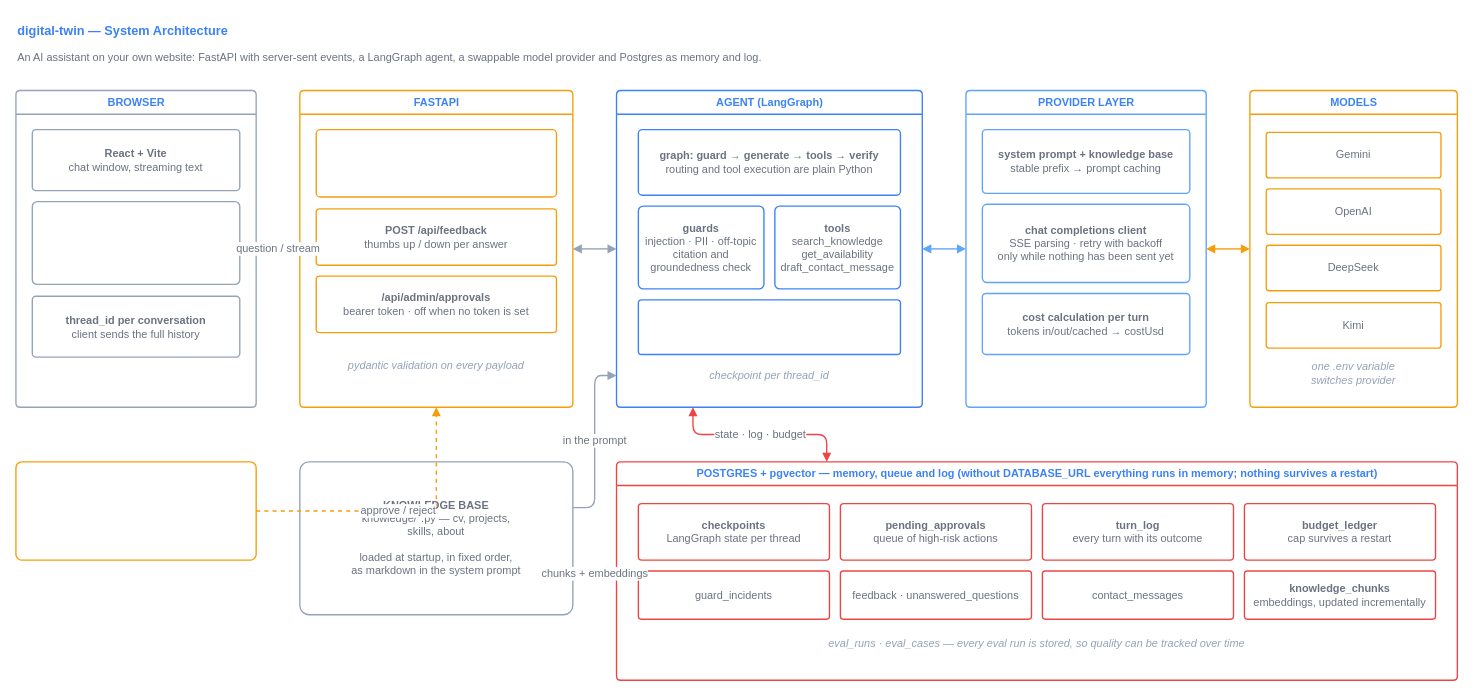
This 1474x696 diagram has some shape labels left out. The centre of each missing label's shape, as x and y in pixels:
BudgetTracker daily cap in dollars, fail closed: (x=769, y=327)
POST /api/chat StreamingResponse (SSE) rate limit 20 per 10 min per IP: (x=436, y=163)
RUUD (ADMIN) approves or rejects paused actions, with bearer token: (x=135, y=510)
SSE events text · citation · tool meta · trace · approval · done: (x=135, y=242)
